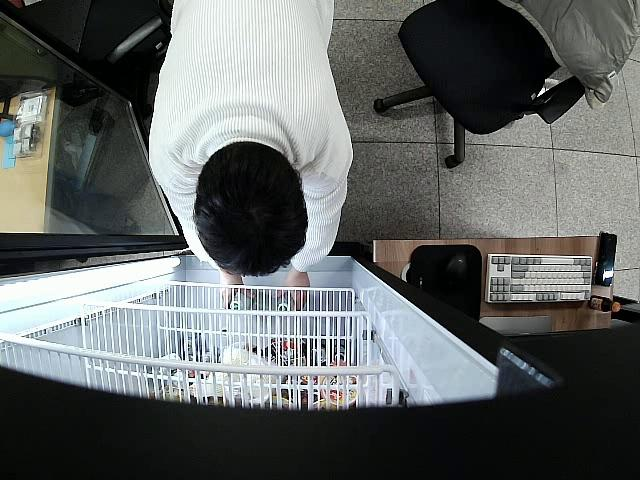00_hand: (275, 273, 311, 310), (219, 277, 254, 309)
18_trevi: (228, 291, 255, 311), (278, 294, 295, 312)
